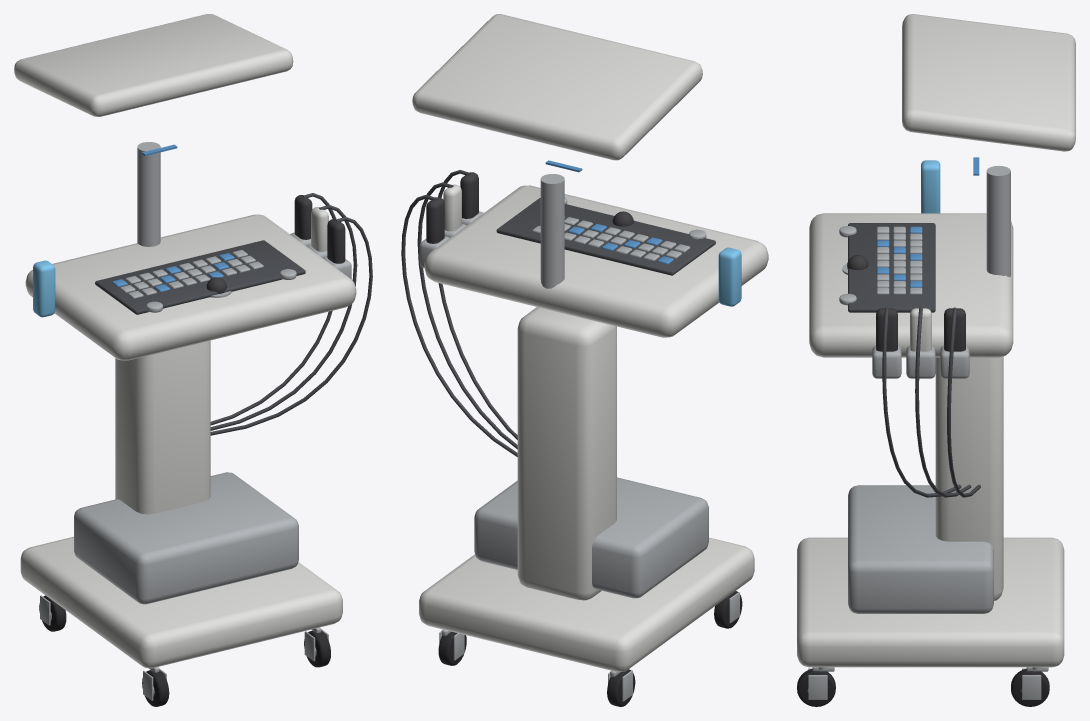
File: echographe.glb
The picture shows the model from 3 angles, left to right: view 1: azimuth 30°, elevation 25°; view 2: azimuth 150°, elevation 25°; view 3: azimuth 270°, elevation 25°; orthographic projection. The views are drawn at different scales.
Visible parts, largest first — view 1: echographe; view 2: echographe; view 3: echographe.
Part boxes in pixels (x1,y1,x2,y2): echographe: [14, 14, 372, 706]; echographe: [401, 14, 768, 706]; echographe: [797, 14, 1075, 706].
Bounding box in the file's own units: 0.7772 × 1.37 × 0.5739.
